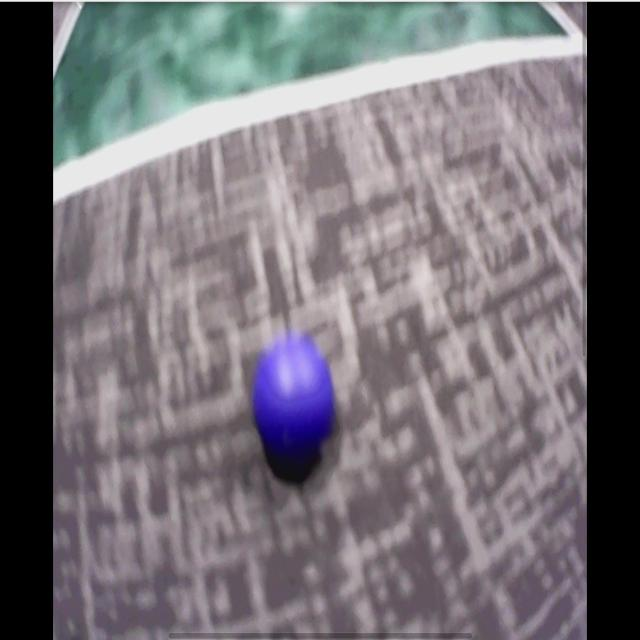ball: (254, 341, 335, 454)
